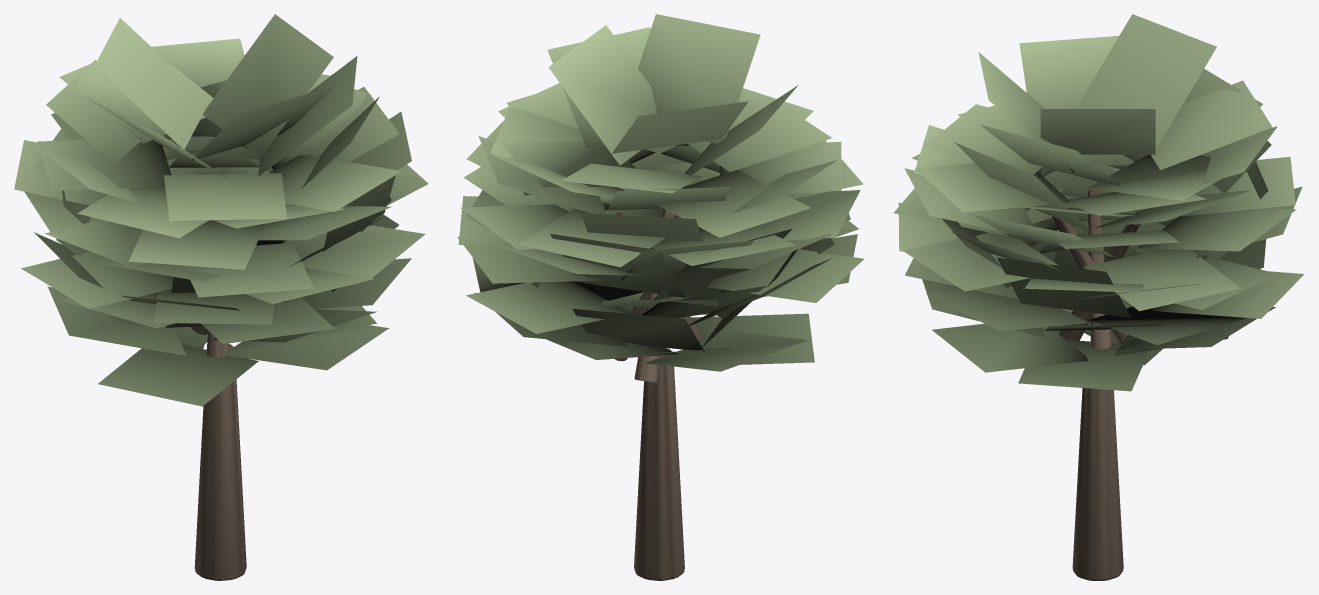
File: tree_walnut.glb
3 views of the same model, side by side, from view 1: azimuth 30°, elevation 25°; view 2: azimuth 150°, elevation 25°; view 3: azimuth 270°, elevation 25° (orthographic). The views are drawn at different scales.
Parts seen in each view (by area): view 1: tree_walnut; view 2: tree_walnut; view 3: tree_walnut.
Boxes of the visible parts, <box> form: tree_walnut: <box>14,14,428,580</box>; tree_walnut: <box>457,14,864,580</box>; tree_walnut: <box>893,14,1303,580</box>.
Bounding box in the file's own units: 3.34 × 4.61 × 3.4.
